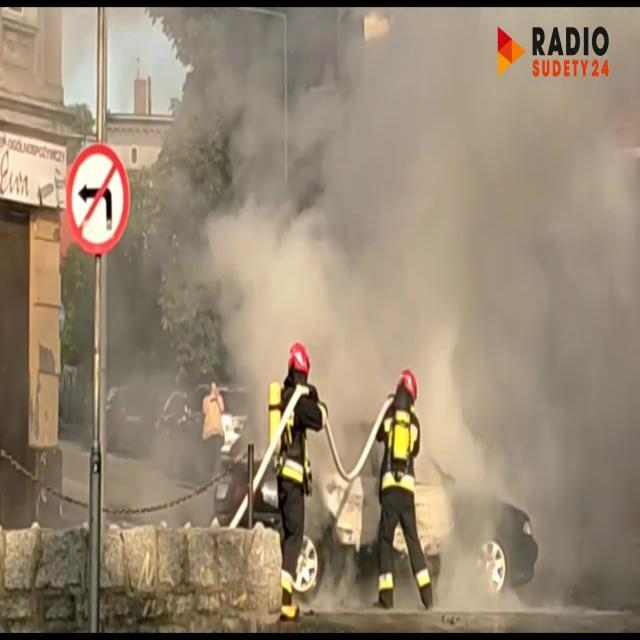Smoke: (129, 3, 640, 600)
